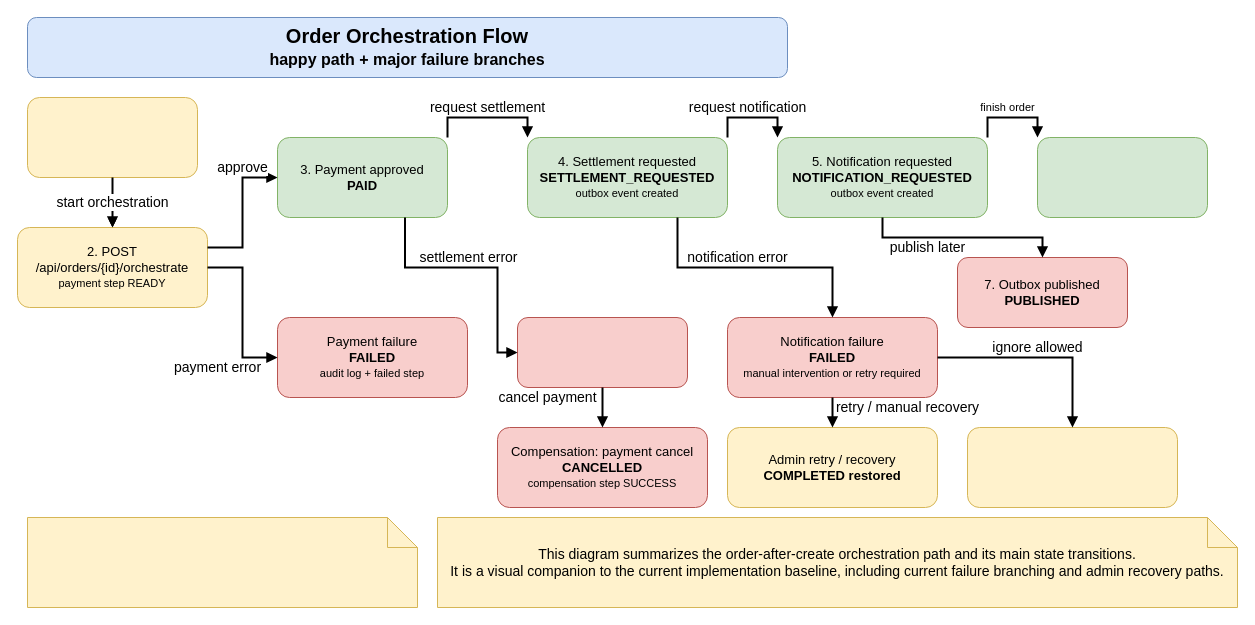
Some shapes in this 1255 by 625 pixel diagram are drawn without their labels. The shapes that lost their labels are listed below. From the top down, each one's centre as x and y in pixels, then its label:
point 112,137: 1. POST /api/orders CREATED
point 1122,177: 6. Order completed COMPLETED
point 602,352: Settlement failure FAILED
point 1072,467: IGNORE policy notification event IGNORED order remains COMPLETED
point 222,562: State evidence: order status + orchestration step + outbox event + audit log
